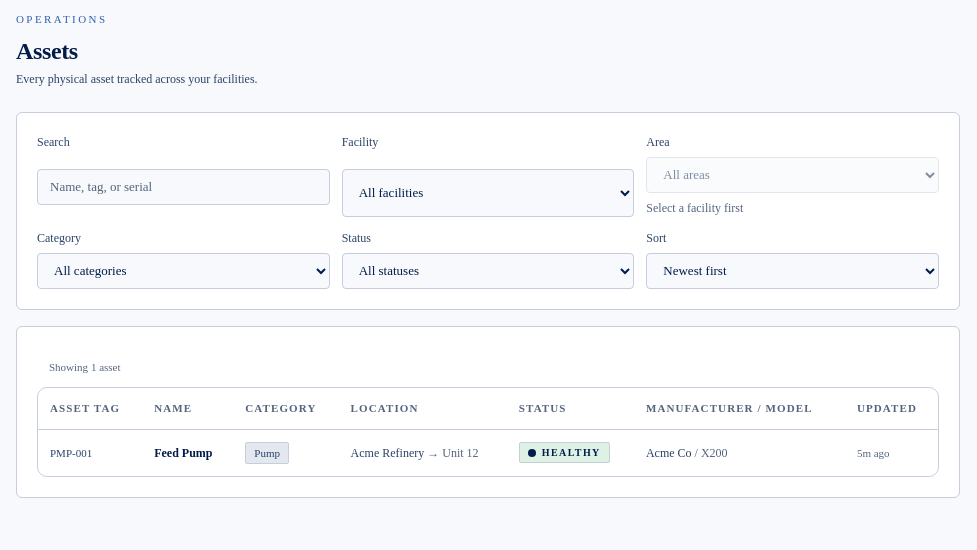
Scenario: assets page › clears all active filters
Expected: the text "Feed Pump" is shown, top-left (142, 429), bottom-right (233, 476)
Type "pump" into the field labelled "Search" at (183, 186), box top-left (37, 168), bottom-right (330, 204)
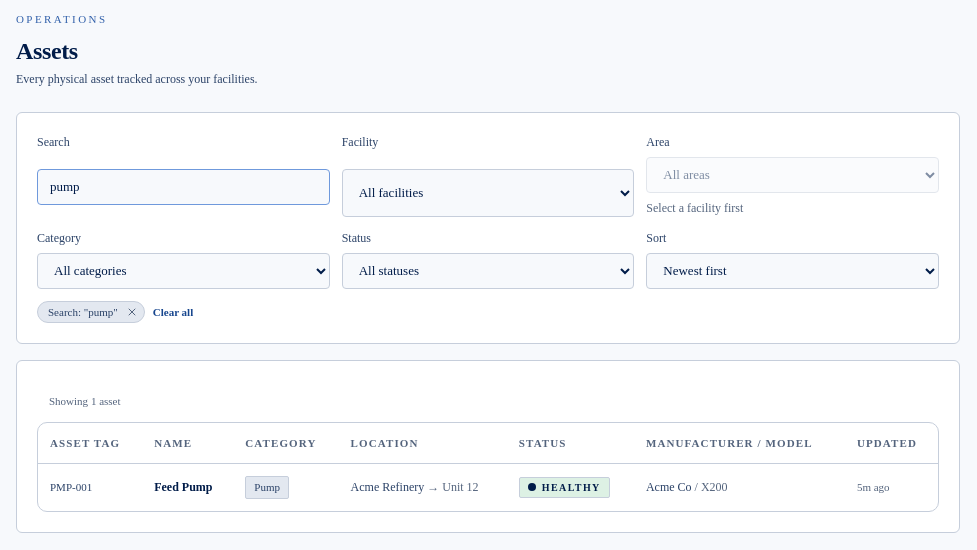
Expected: the text "Search: \"pump\"" is shown, top-left (37, 300), bottom-right (145, 323)
Click the button "Clear all" at (173, 312), box top-left (153, 304), bottom-right (193, 320)
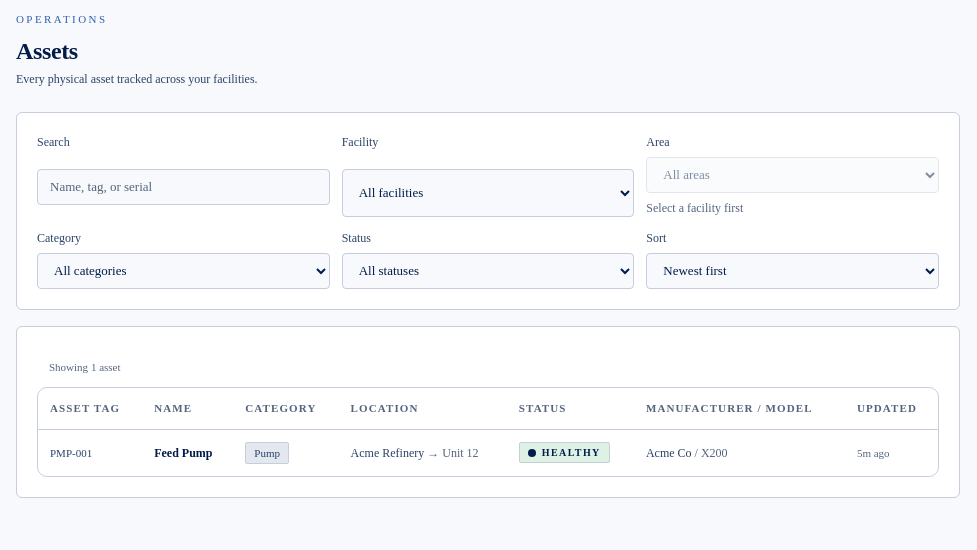
Expected: the text "Search: \"pump\"" is gone
